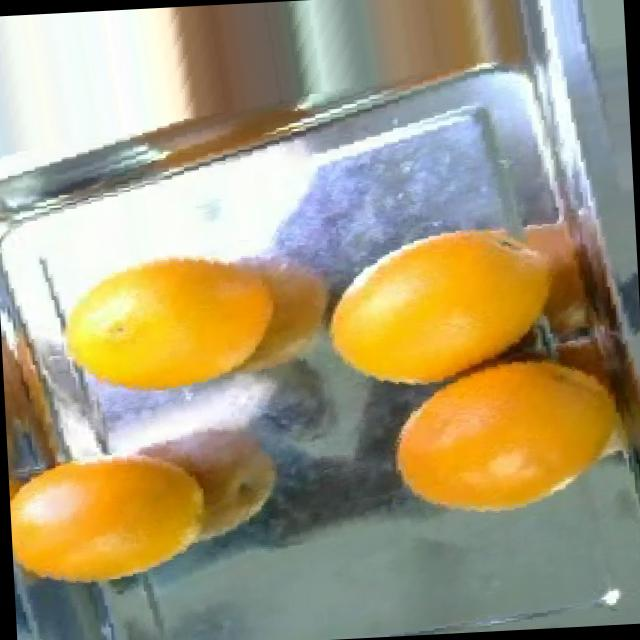Fruit: (368, 350, 584, 540), (33, 232, 259, 402), (7, 452, 200, 606)
